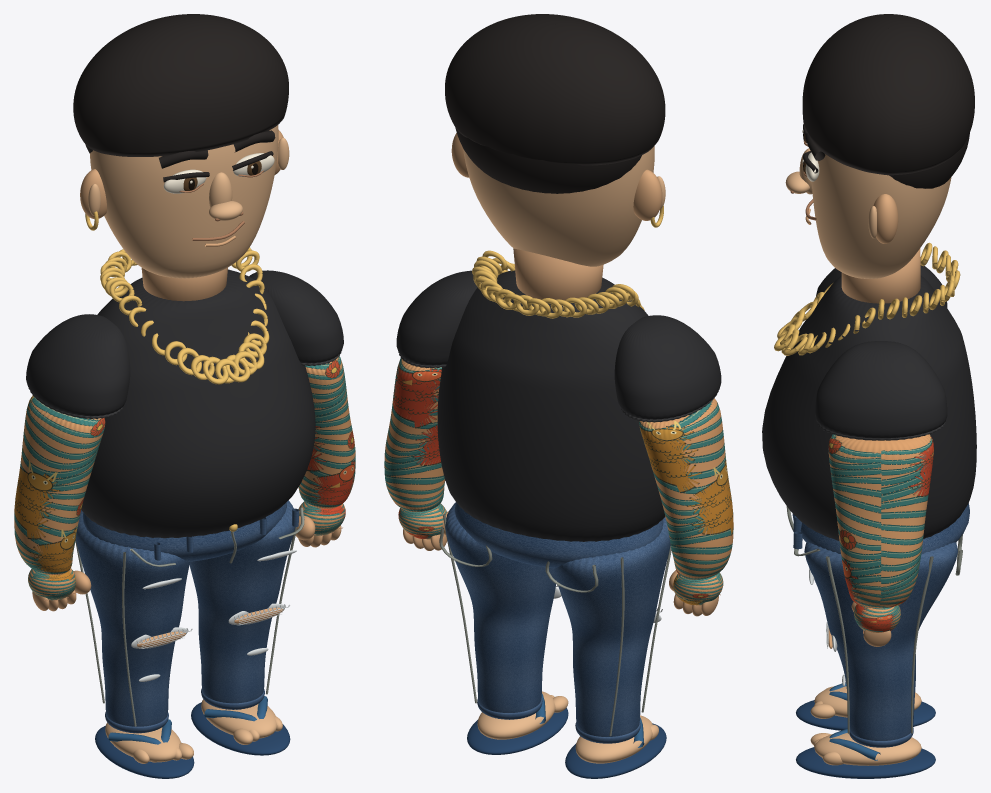
File: bajiu.glb
3 views of the same model, side by side, from view 1: azimuth 30°, elevation 25°; view 2: azimuth 150°, elevation 25°; view 3: azimuth 270°, elevation 25° (orthographic). The views are drawn at different scales.
Visible parts, largest first — view 1: Fitted shirt, Dense bowl haircut, Head sculpt, Slim jeans leg, Slim jeans leg.001, Color tattoo sleeve, Rolled T-shirt sleeve, Color tattoo sleeve.001, Rolled T-shirt sleeve.001, Pelvis, Neck, Rubber flip-flop sole.001 (+7 smaller); view 2: Fitted shirt, Dense bowl haircut, Slim jeans leg, Slim jeans leg.001, Color tattoo sleeve, Head sculpt, Rolled T-shirt sleeve, Color tattoo sleeve.001, Rolled T-shirt sleeve.001, Undercut, Pelvis, Neck (+7 smaller); view 3: Fitted shirt, Dense bowl haircut, Color tattoo sleeve.001, Slim jeans leg.001, Rolled T-shirt sleeve.001, Head sculpt, Neck, Rubber flip-flop sole.001, Foot.001, Pelvis, Undercut, Rubber flip-flop sole (+9 smaller).
Boxes of the visible parts, <box> form: Fitted shirt: <box>81,269,315,538</box>; Dense bowl haircut: <box>73,14,288,156</box>; Head sculpt: <box>90,125,278,278</box>; Slim jeans leg: <box>75,510,189,726</box>; Slim jeans leg.001: <box>189,500,295,703</box>; Color tattoo sleeve: <box>14,395,105,575</box>; Rolled T-shirt sleeve: <box>26,314,130,416</box>; Color tattoo sleeve.001: <box>298,356,355,508</box>; Rolled T-shirt sleeve.001: <box>249,270,343,363</box>; Pelvis: <box>83,502,286,561</box>; Neck: <box>141,267,227,301</box>; Rubber flip-flop sole.001: <box>191,702,290,755</box>; Fitted shirt: <box>437,270,665,541</box>; Dense bowl haircut: <box>445,14,665,165</box>; Slim jeans leg: <box>554,517,670,736</box>; Slim jeans leg.001: <box>445,502,556,712</box>; Color tattoo sleeve: <box>639,398,733,580</box>; Head sculpt: <box>463,146,654,266</box>; Rolled T-shirt sleeve: <box>614,315,721,419</box>; Color tattoo sleeve.001: <box>384,358,445,512</box>; Rolled T-shirt sleeve.001: <box>396,270,481,365</box>; Undercut: <box>455,128,641,193</box>; Pelvis: <box>454,502,663,568</box>; Neck: <box>513,248,603,300</box>; Fitted shirt: <box>762,275,976,540</box>; Dense bowl haircut: <box>802,14,974,175</box>; Color tattoo sleeve.001: <box>828,434,933,608</box>; Slim jeans leg.001: <box>804,542,957,740</box>; Rolled T-shirt sleeve.001: <box>815,341,947,438</box>; Head sculpt: <box>811,154,951,278</box>; Neck: <box>841,248,920,303</box>; Rubber flip-flop sole.001: <box>796,747,935,778</box>; Foot.001: <box>814,733,921,765</box>; Pelvis: <box>792,503,969,554</box>; Undercut: <box>889,133,969,188</box>; Rubber flip-flop sole: <box>796,700,935,730</box>.
Size of the model in its own units: 1.73 by 3.61 by 0.9805.
Materials: 17 (3 with a texture image).
